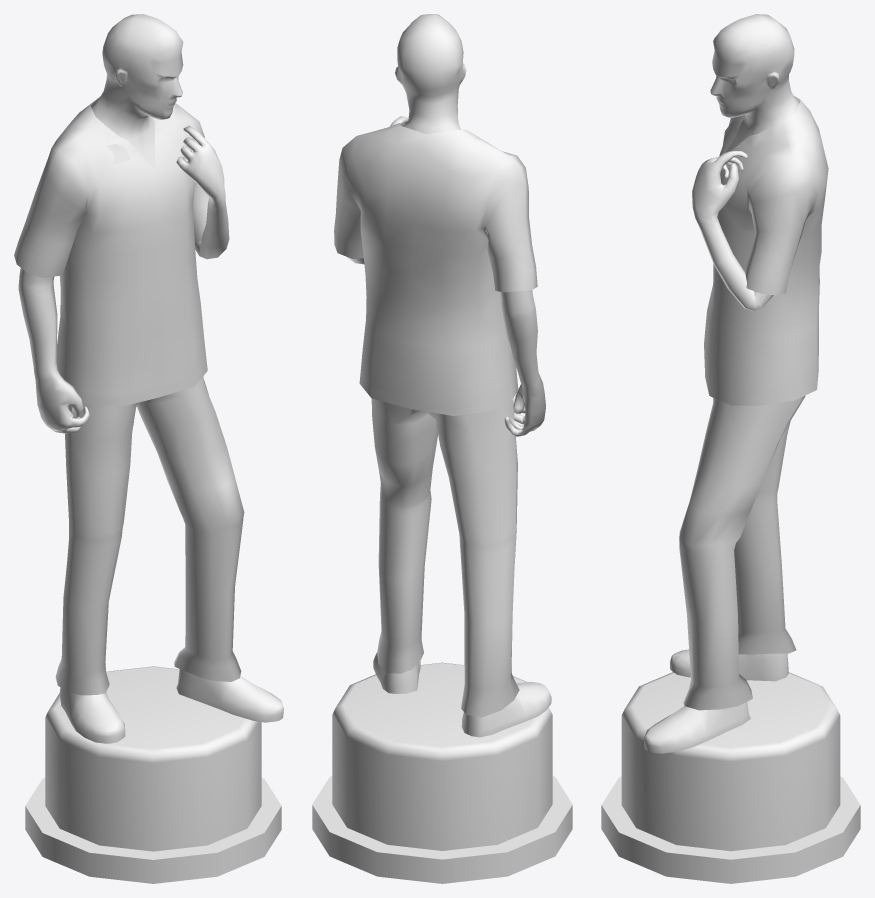
File: White_statue_01.fbx
3 renders of one model, left to right at view 1: azimuth 30°, elevation 25°; view 2: azimuth 150°, elevation 25°; view 3: azimuth 270°, elevation 25°, orthographic.
Parts seen in each view (by area): view 1: SM_white_statue_01; view 2: SM_white_statue_01; view 3: SM_white_statue_01.
Boxes of the visible parts, x1,y1,x2,y2 form: SM_white_statue_01: (14,14,283,883); SM_white_statue_01: (312,14,572,883); SM_white_statue_01: (601,14,860,883).
Size of the model in its own units: 100 by 345 by 99.68.
Materials: 1 (1 with a texture image).
